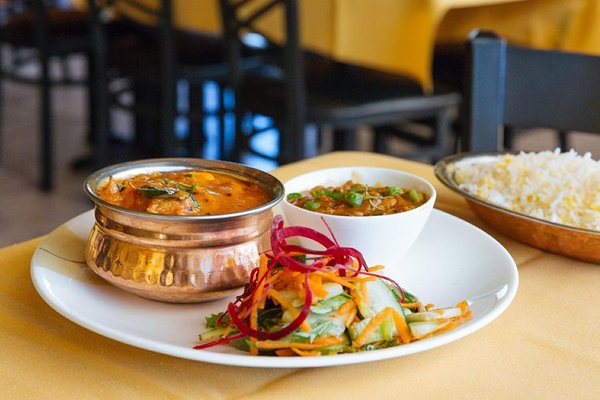sushi: (82, 157, 288, 302), (434, 148, 600, 265), (274, 158, 437, 269)
